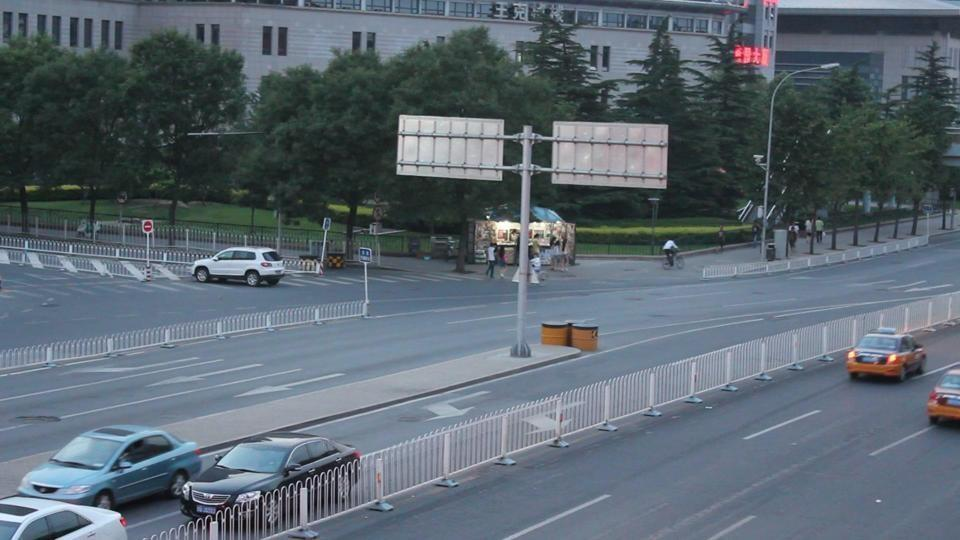car: (177, 432, 362, 521), (17, 424, 204, 509), (0, 493, 130, 540), (846, 328, 928, 383), (189, 247, 286, 287), (927, 370, 960, 425)
